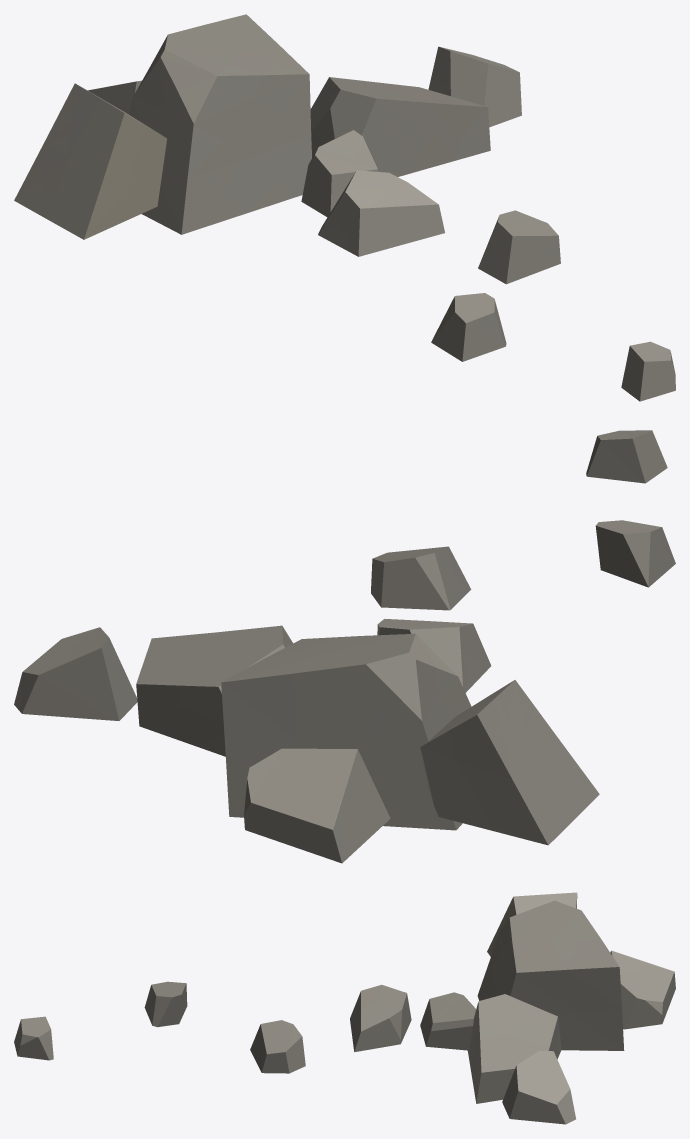
The model's file is rubble_cluster_A.glb.
3 renders of one model, top to bottom at view 1: azimuth 30°, elevation 25°; view 2: azimuth 150°, elevation 25°; view 3: azimuth 270°, elevation 25°, orthographic. The views are drawn at different scales.
Parts seen in each view (by area): view 1: rubble_cluster_A; view 2: rubble_cluster_A; view 3: rubble_cluster_A.
Boxes of the visible parts, x1=… form: rubble_cluster_A: x1=14, y1=14, x2=675, y2=401; rubble_cluster_A: x1=14, y1=430, x2=675, y2=863; rubble_cluster_A: x1=14, y1=892, x2=675, y2=1124.
Bounding box in the file's own units: 1.58 × 0.4413 × 2.46.
